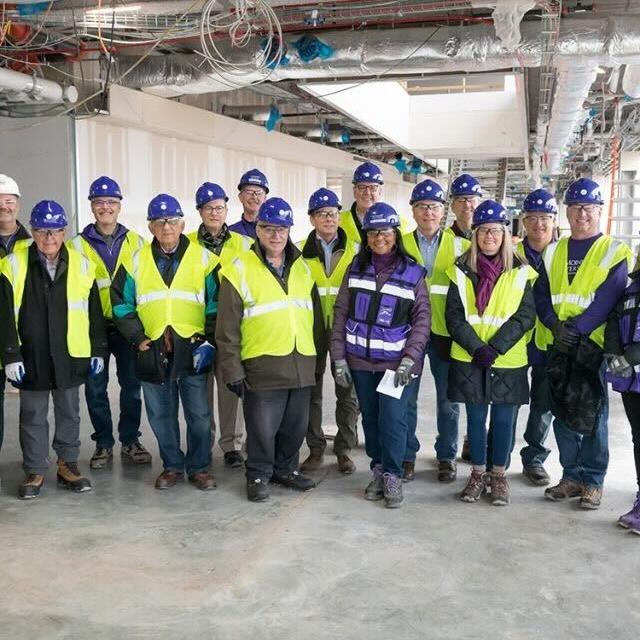Gloves: (549, 316, 580, 345), (193, 341, 216, 375), (393, 355, 415, 388), (470, 347, 499, 372), (333, 358, 353, 391), (553, 323, 574, 354), (228, 378, 251, 400), (605, 354, 629, 375), (474, 346, 497, 367), (5, 361, 25, 383), (615, 356, 634, 379), (90, 356, 105, 374)
Hardhat: (470, 196, 513, 260), (28, 199, 69, 229), (256, 196, 294, 227), (361, 201, 401, 229), (563, 178, 604, 204), (469, 198, 510, 224), (517, 188, 557, 214), (307, 187, 343, 215), (147, 193, 185, 219), (410, 179, 448, 205), (88, 174, 124, 200), (195, 180, 229, 207), (237, 167, 271, 194), (352, 159, 385, 185), (448, 174, 483, 197), (0, 172, 23, 199)
NO-Mask: (568, 219, 599, 234), (150, 230, 183, 244), (35, 239, 65, 254), (259, 236, 287, 252), (415, 216, 442, 232), (371, 239, 397, 254), (355, 193, 380, 208), (316, 218, 339, 234), (478, 239, 501, 254), (93, 209, 119, 222), (201, 214, 226, 227), (529, 227, 552, 241), (241, 198, 263, 212), (0, 207, 18, 220), (456, 209, 475, 221)
Person: (217, 194, 329, 501), (110, 188, 221, 491), (534, 177, 630, 511), (327, 199, 431, 505), (446, 196, 536, 505), (0, 197, 89, 499), (68, 173, 153, 469), (485, 188, 563, 485), (399, 178, 473, 481), (182, 178, 254, 464), (292, 186, 361, 474), (445, 171, 505, 464), (600, 207, 640, 534), (0, 171, 35, 470), (337, 159, 407, 249), (227, 166, 271, 240)
Safety Vest: (535, 232, 634, 350), (448, 250, 538, 368), (218, 246, 316, 354), (343, 251, 428, 363), (125, 241, 218, 338), (402, 228, 470, 337), (67, 228, 144, 319), (291, 237, 361, 328), (511, 231, 561, 341), (615, 267, 640, 398), (340, 211, 407, 254), (191, 228, 255, 263), (442, 224, 473, 255), (229, 221, 257, 238), (0, 238, 16, 260)
